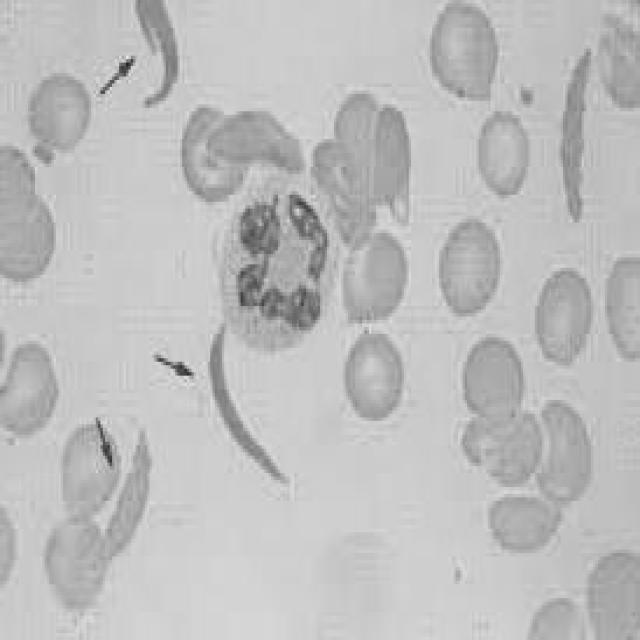RBC: (422, 0, 504, 111), (521, 393, 595, 515), (526, 261, 598, 382), (37, 511, 117, 619), (175, 104, 252, 206), (455, 331, 528, 438), (435, 208, 502, 324), (52, 421, 122, 529), (338, 327, 408, 428), (341, 230, 406, 330), (23, 70, 91, 160), (477, 108, 537, 209), (0, 337, 58, 441), (476, 490, 566, 553), (584, 539, 638, 640), (602, 247, 640, 372)
WBC: (208, 167, 343, 358)
sickle cell: (201, 310, 301, 490), (82, 424, 154, 578), (544, 42, 600, 233), (128, 0, 196, 111)
